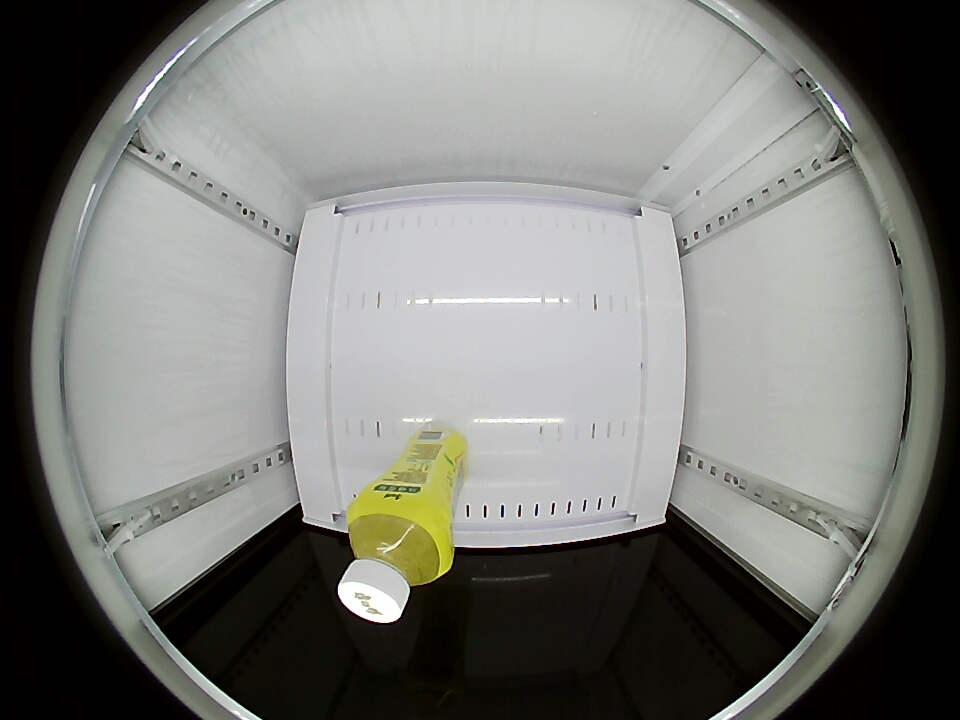bingtangxueli: (338, 495, 453, 624)
